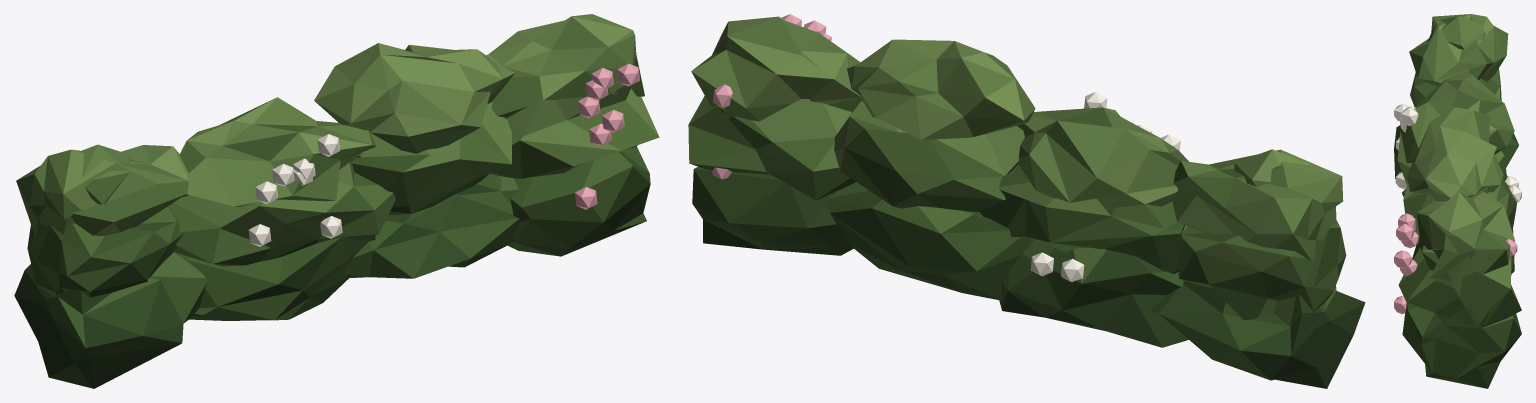
The model's file is lwf_hedge_straight_4m_a_v1.glb.
3 views of the same model, side by side, from view 1: azimuth 30°, elevation 25°; view 2: azimuth 150°, elevation 25°; view 3: azimuth 270°, elevation 25° (orthographic). The views are drawn at different scales.
Visible parts, largest first — view 1: lwf_hedge_straight_4m_a_v1; view 2: lwf_hedge_straight_4m_a_v1; view 3: lwf_hedge_straight_4m_a_v1.
Boxes of the visible parts, x1=… form: lwf_hedge_straight_4m_a_v1: x1=14, y1=14, x2=659, y2=388; lwf_hedge_straight_4m_a_v1: x1=688, y1=14, x2=1365, y2=388; lwf_hedge_straight_4m_a_v1: x1=1394, y1=14, x2=1521, y2=388.
Bounding box in the file's own units: 4.2 × 1.7 × 1.
1 material, 1 textured.
